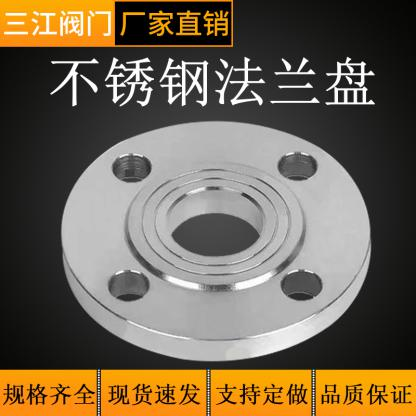FOD: (55, 116, 377, 367)
